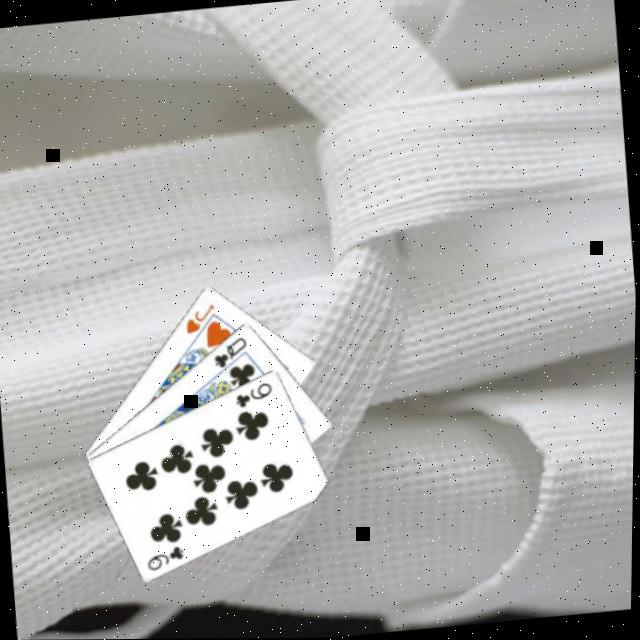9C: (232, 379, 276, 412), (144, 542, 188, 574)
JH: (181, 301, 220, 337)
QC: (209, 334, 252, 372)
